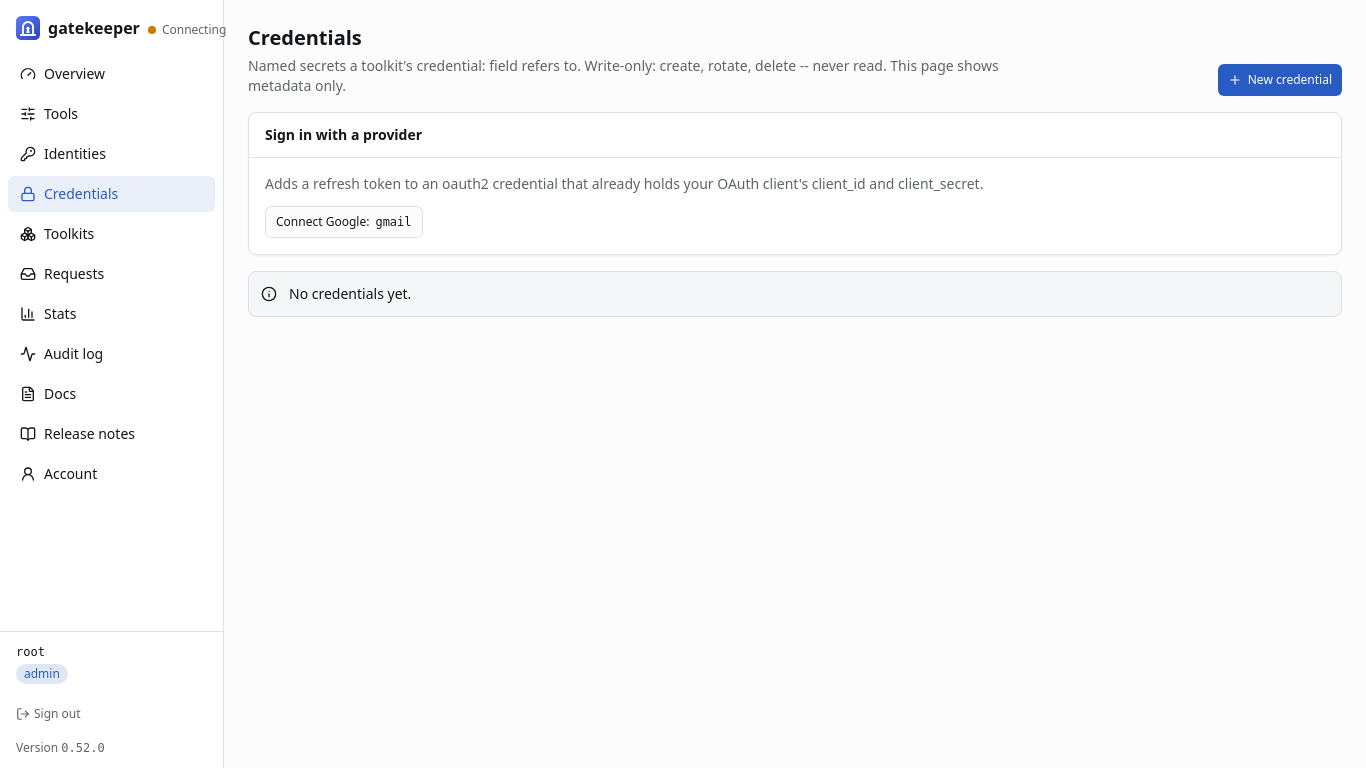
it: oauth › starts a flow and links to the provider's consent page
The width and height of the screenshot is (1366, 768).
Step 1. Click the button "Connect Google: gmail" → (344, 222), box x1=265 y1=206 x2=422 y2=238
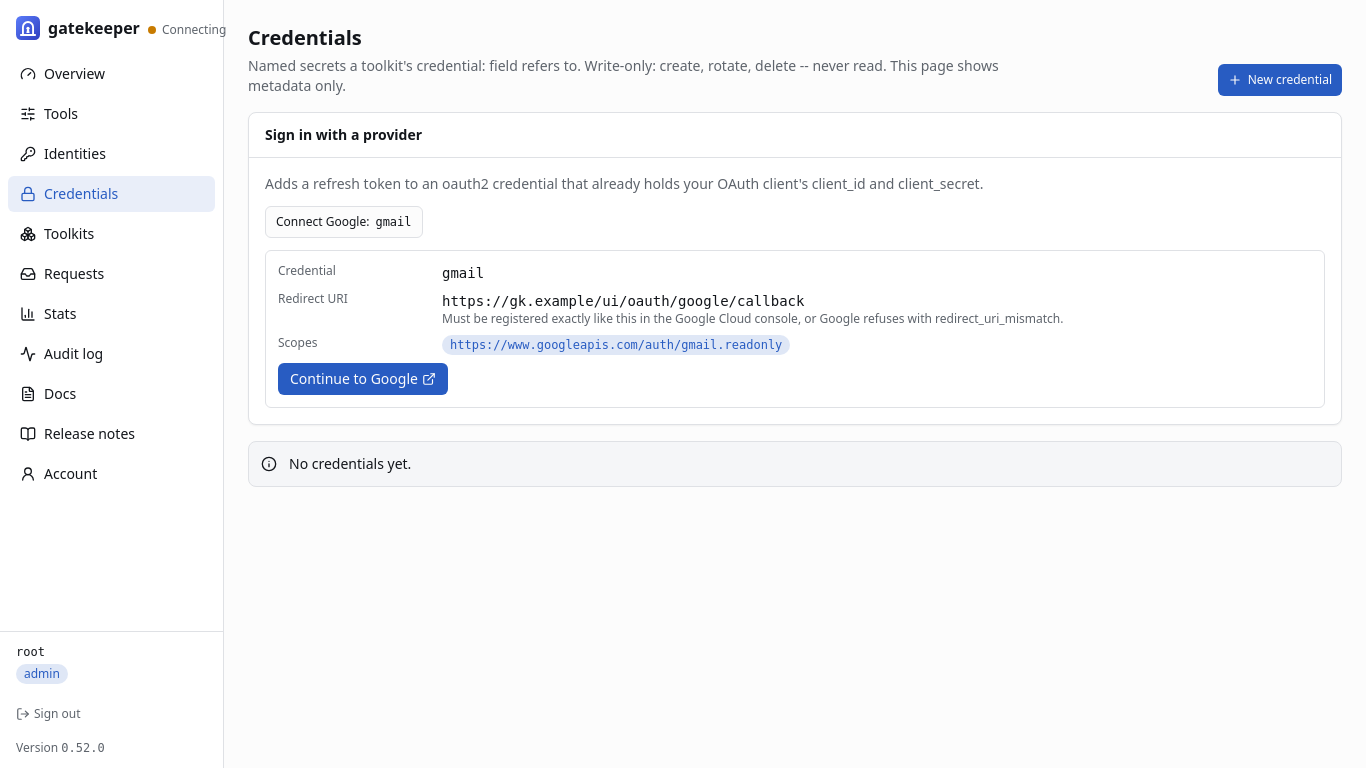
Now the text "https://gk.example/ui/oauth/google/callback" is shown, box x1=442 y1=293 x2=804 y2=309
